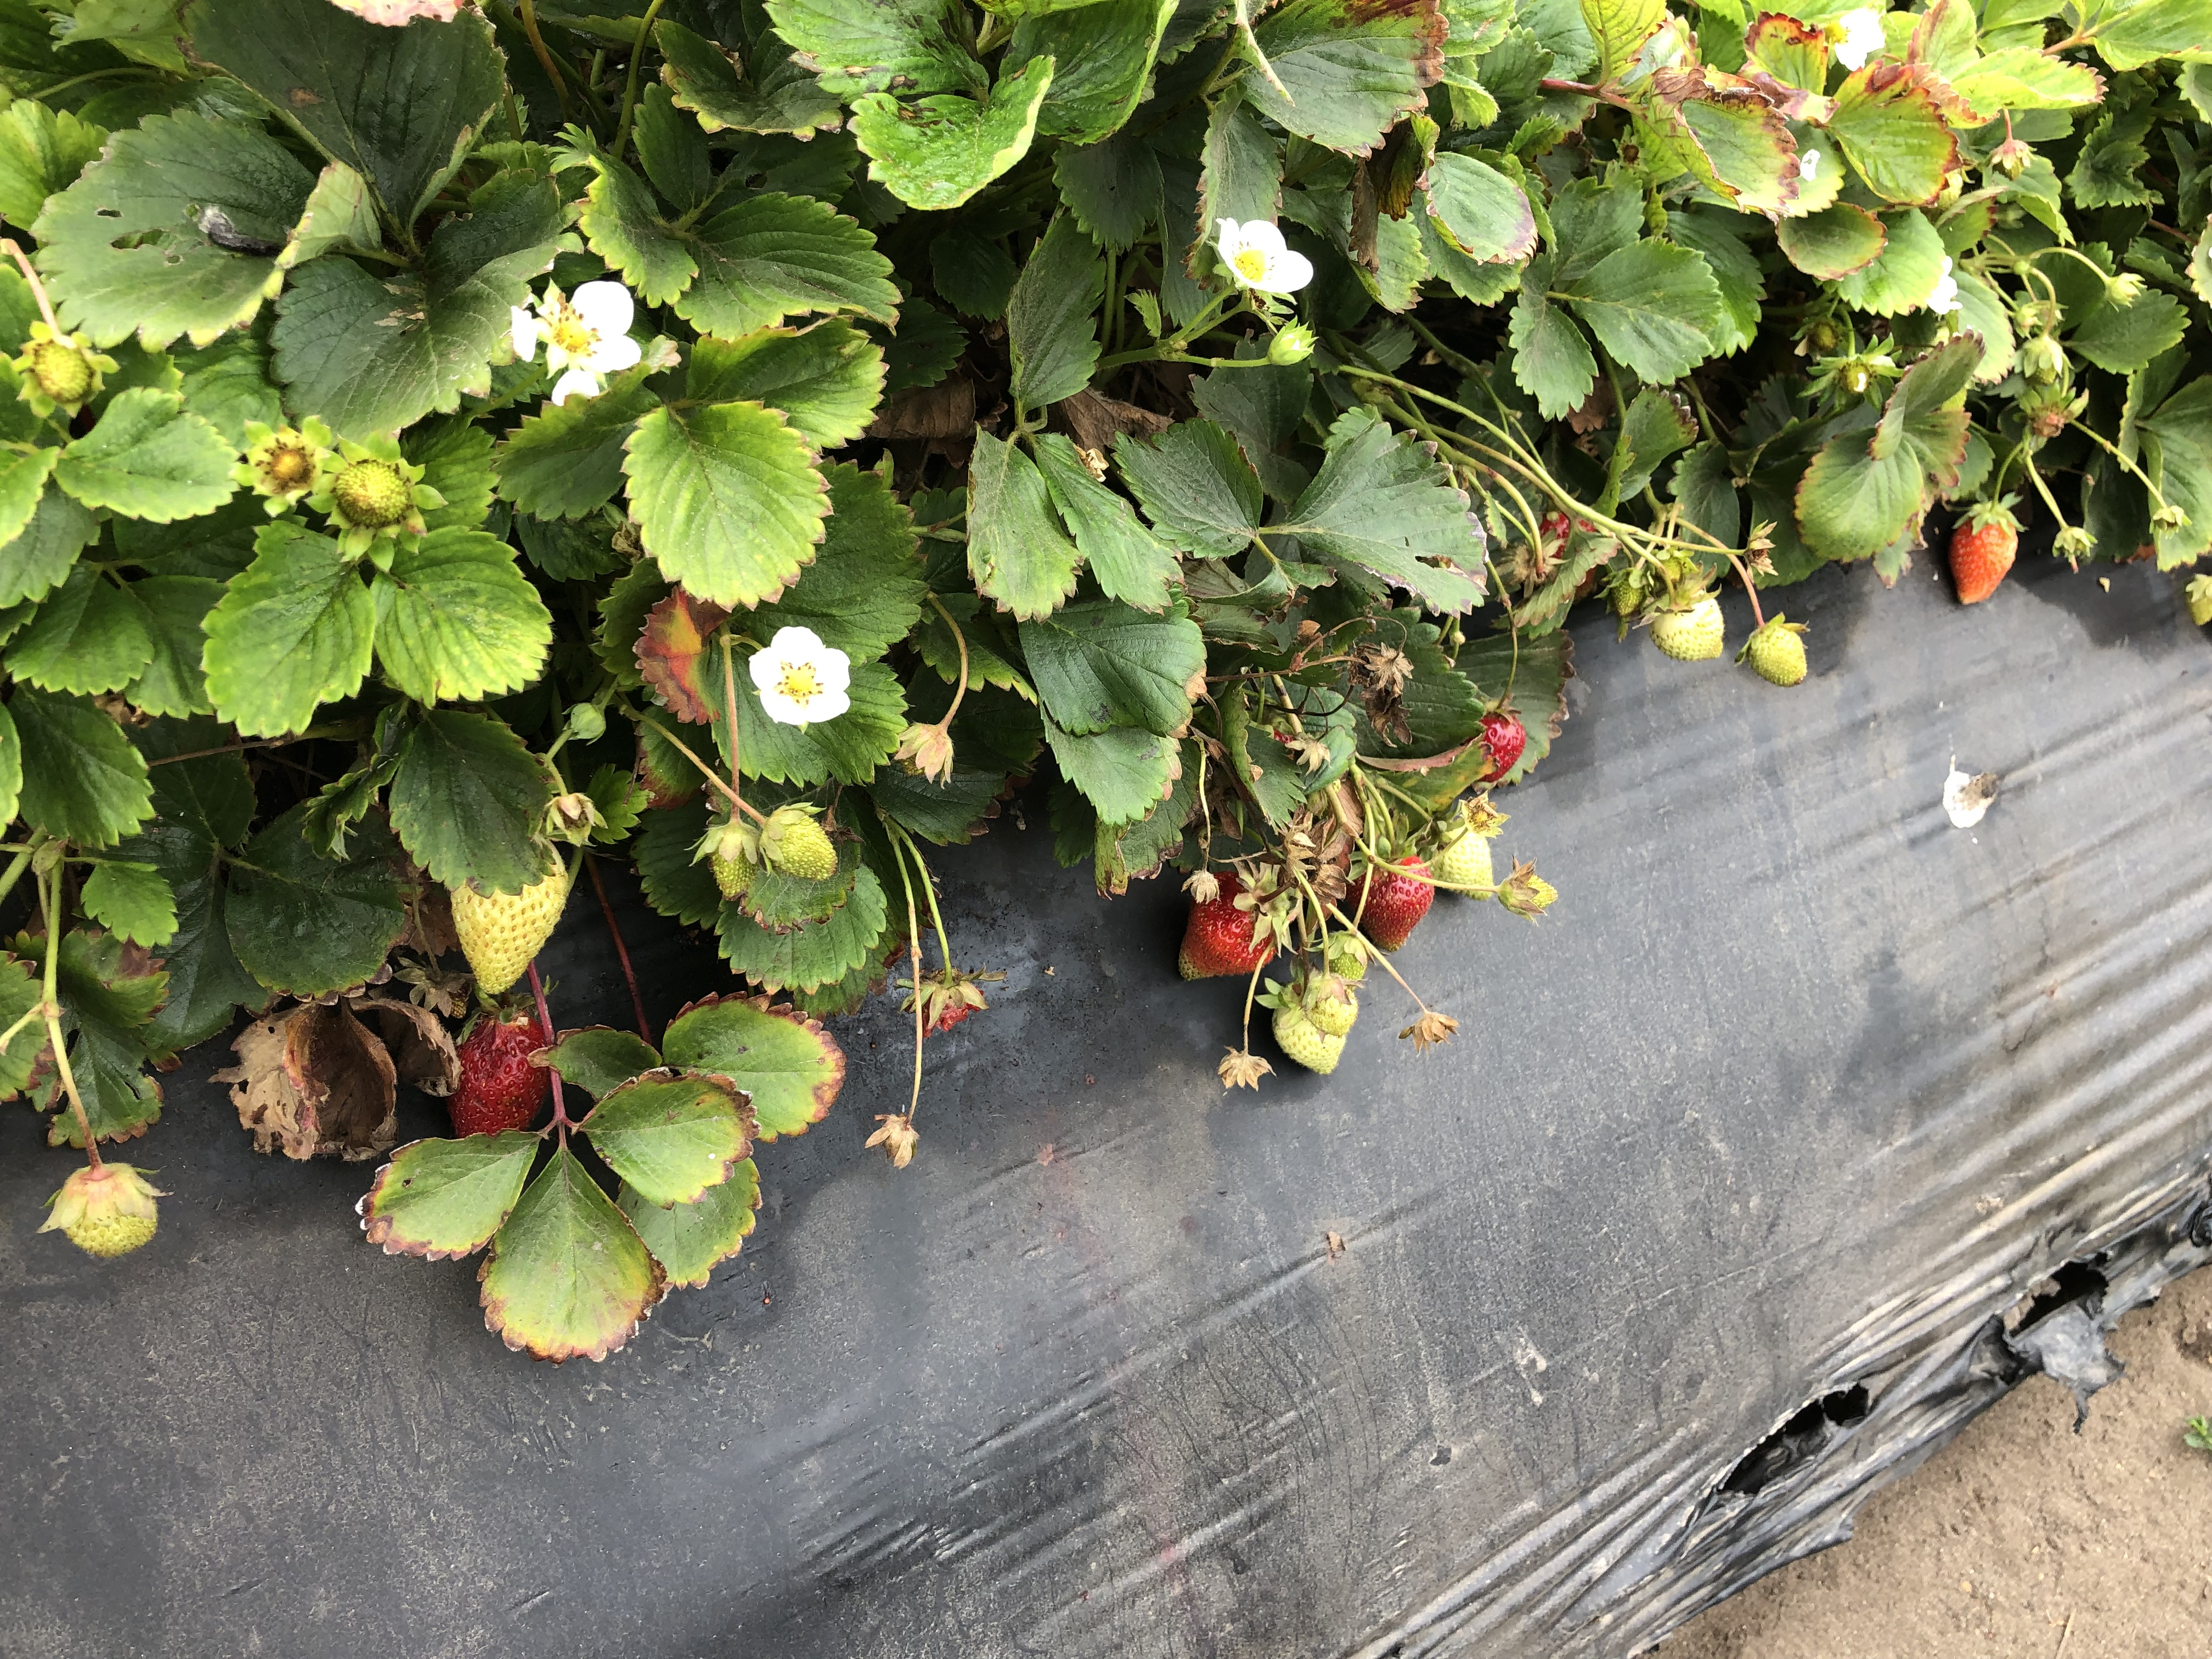ripe_strawberry: (446, 1000, 556, 1141), (1176, 863, 1296, 985), (1346, 852, 1439, 957), (1946, 497, 2027, 608), (1477, 704, 1529, 786)
unripe_strawberry: (442, 833, 578, 1002), (57, 1159, 167, 1262), (326, 457, 416, 538), (1268, 990, 1350, 1077), (1421, 819, 1501, 904), (1649, 586, 1733, 664), (763, 805, 843, 884), (1742, 620, 1815, 692), (28, 329, 92, 406), (702, 819, 756, 906), (1299, 974, 1364, 1037), (1315, 925, 1371, 988), (1500, 866, 1564, 915), (2026, 343, 2066, 390), (1834, 356, 1869, 399), (2188, 575, 2212, 633), (1810, 315, 1843, 354)
